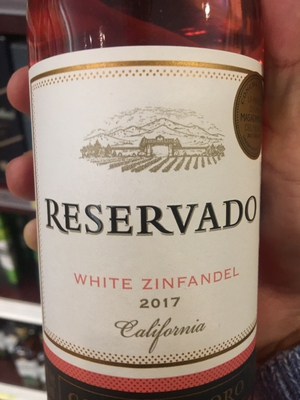reservado white zinfandel: (28, 5, 264, 392)
